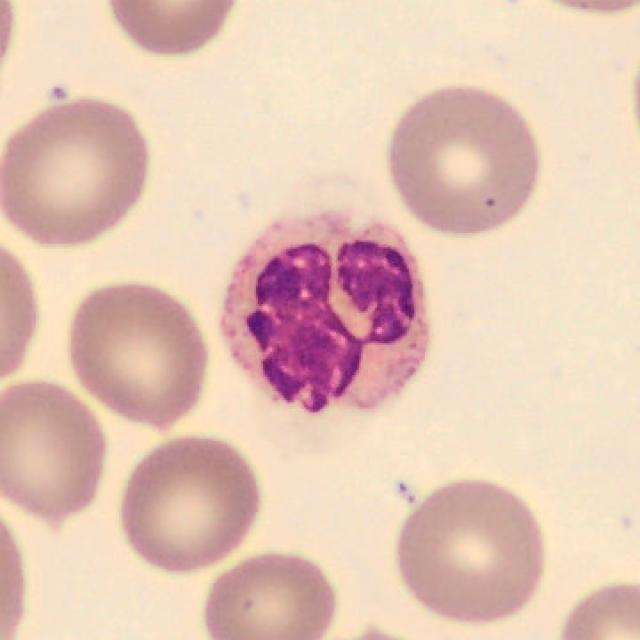Neutrofilo segmentado: (220, 215, 427, 411)
